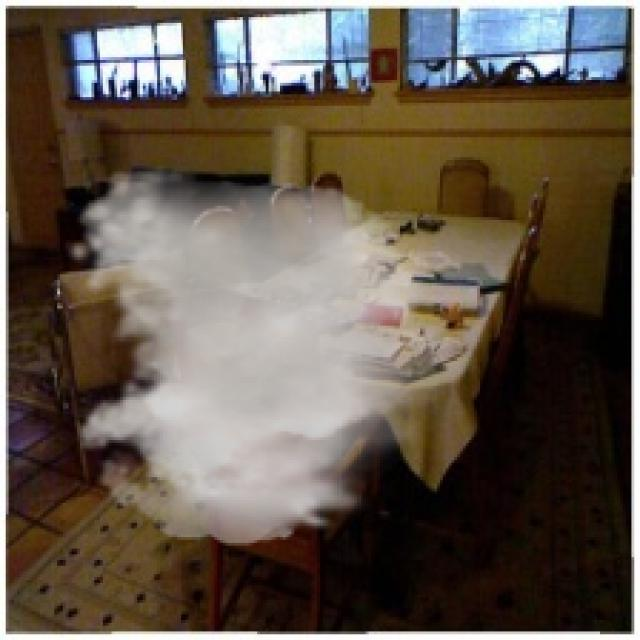smoke: (63, 165, 474, 546)
